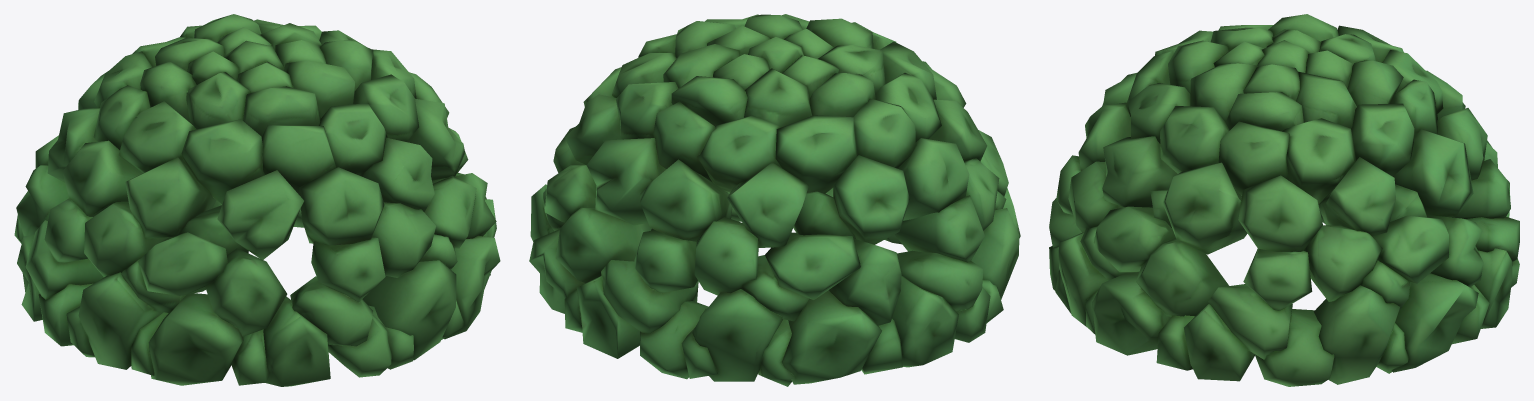
The model's file is coral-brain.glb.
3 views of the same model, side by side, from view 1: azimuth 30°, elevation 25°; view 2: azimuth 150°, elevation 25°; view 3: azimuth 270°, elevation 25° (orthographic).
Bounding box in the file's own units: 1 × 0.5999 × 1.
Materials: 1 (1 with a texture image).
